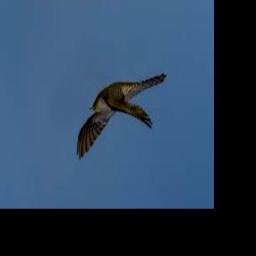Cuckoo: (77, 74, 167, 160)
